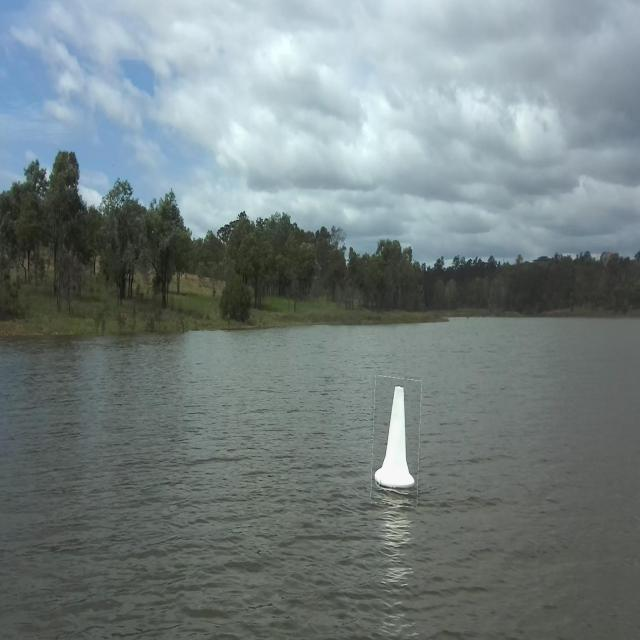White_Buoy: (372, 375, 416, 500)
